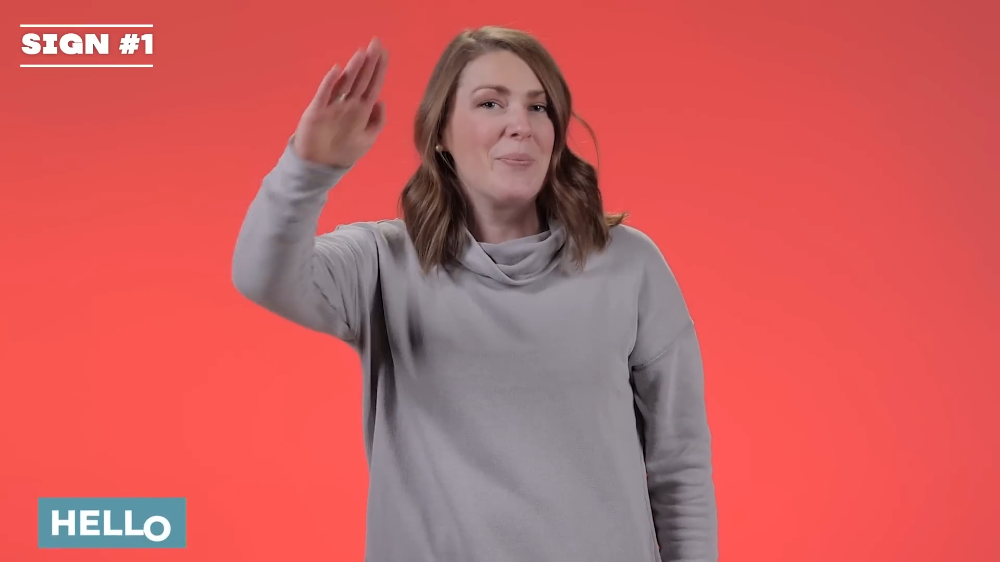hello: (297, 31, 396, 171)
